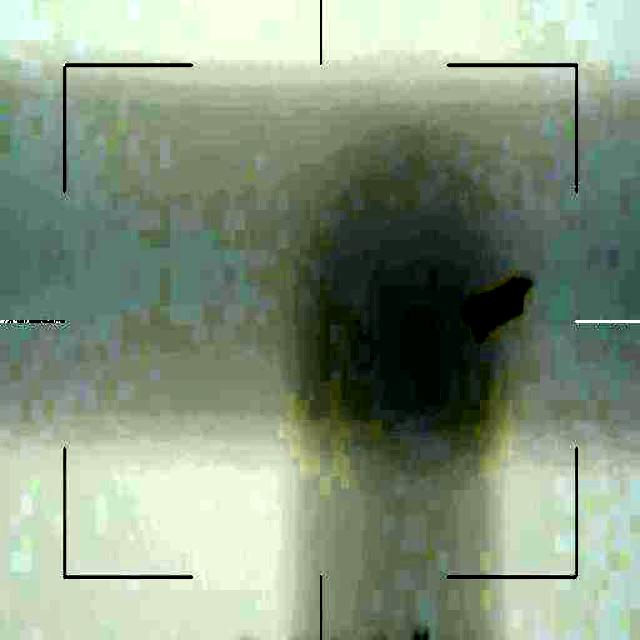bird: (465, 279, 522, 338)
